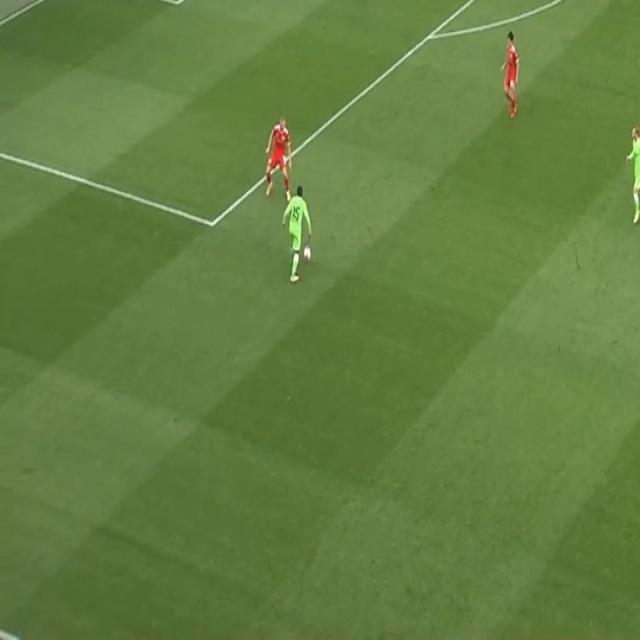ball: (303, 244, 312, 263)
